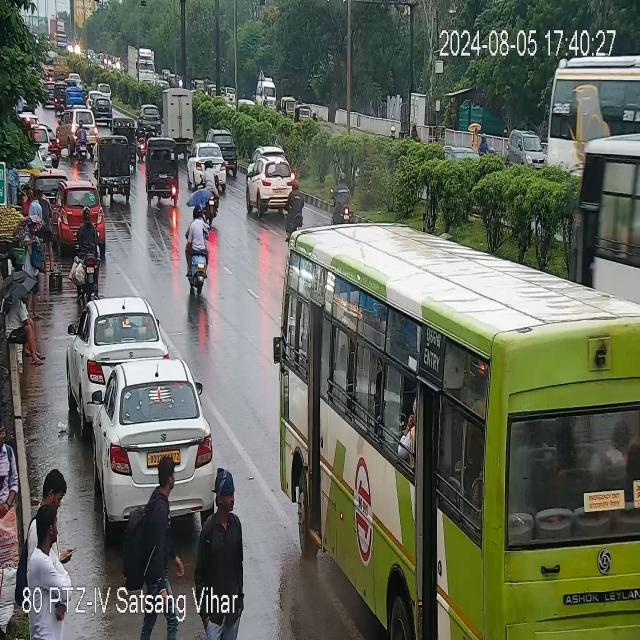2-wheelers: (68, 206, 104, 290), (188, 206, 209, 290), (200, 160, 221, 223), (286, 177, 306, 242), (75, 122, 88, 164), (137, 128, 149, 161)
auto: (144, 142, 181, 205), (99, 136, 135, 196), (92, 96, 114, 122)
bus: (274, 220, 640, 639), (570, 118, 636, 282), (548, 60, 640, 168), (329, 170, 357, 222)
car: (94, 358, 215, 513), (71, 295, 165, 394), (247, 149, 302, 219), (55, 178, 107, 249), (186, 138, 228, 185), (59, 108, 95, 151), (210, 124, 240, 174), (30, 122, 52, 164), (143, 102, 162, 134), (46, 124, 60, 166)
pedestrian: (130, 446, 186, 635), (199, 464, 241, 638), (0, 412, 22, 640), (30, 515, 67, 640), (0, 287, 44, 365), (23, 216, 42, 322), (38, 471, 74, 513), (36, 185, 54, 268), (21, 184, 34, 216)
truck: (164, 88, 202, 146)
